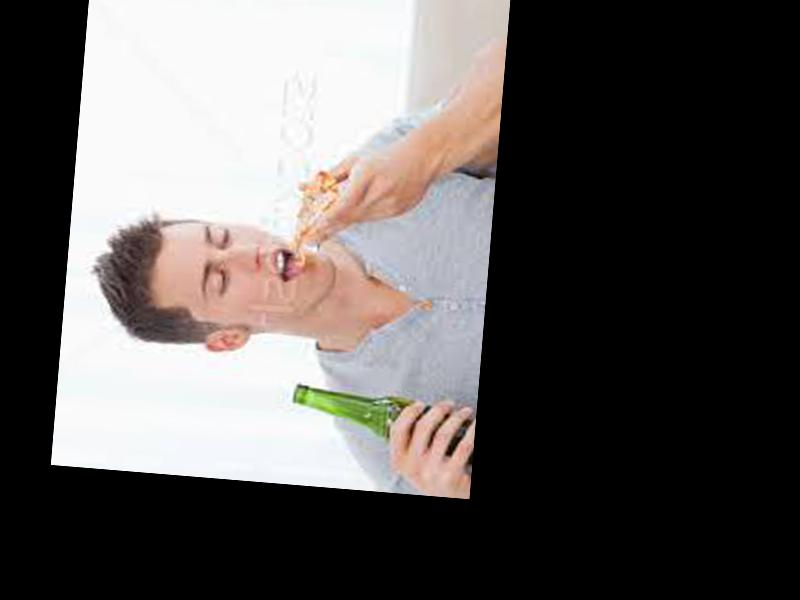Beer: (289, 383, 478, 467)
